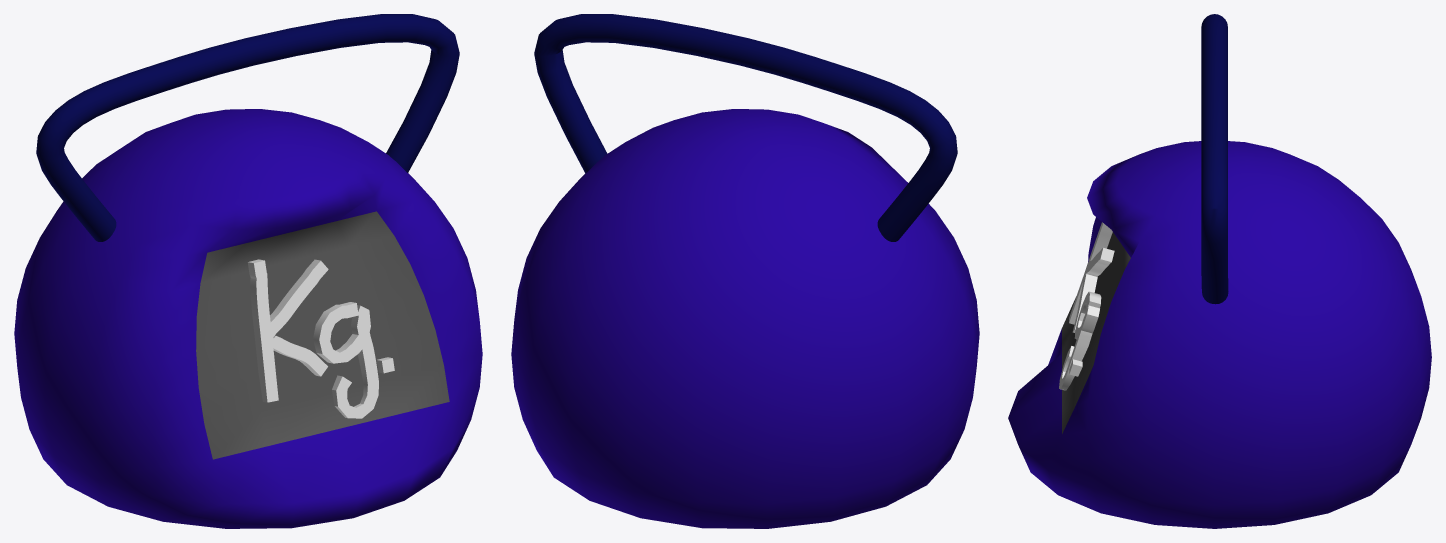
Rendered from Masa3.fbx.
3 views of the same model, side by side, from view 1: azimuth 30°, elevation 25°; view 2: azimuth 150°, elevation 25°; view 3: azimuth 270°, elevation 25° (orthographic). The views are drawn at different scales.
Visible parts, largest first — view 1: pasted__pasted__pSphere1, pasted__pasted__pCylinder1, pasted__pasted__pCube3, pasted__pasted__pCube1, pasted__pasted__pCube2; view 2: pasted__pasted__pSphere1, pasted__pasted__pCylinder1; view 3: pasted__pasted__pSphere1, pasted__pasted__pCylinder1, pasted__pasted__pCube3, pasted__pasted__pCube2, pasted__pasted__pCube1.
Part boxes in pixels (box(x1,y1,x2,y2)): pasted__pasted__pSphere1: box(14, 109, 482, 528); pasted__pasted__pCylinder1: box(36, 14, 459, 241); pasted__pasted__pCube3: box(313, 302, 378, 418); pasted__pasted__pCube1: box(247, 259, 278, 402); pasted__pasted__pCube2: box(264, 259, 328, 376); pasted__pasted__pSphere1: box(511, 109, 979, 528); pasted__pasted__pCylinder1: box(534, 14, 957, 241); pasted__pasted__pSphere1: box(1008, 141, 1431, 528); pasted__pasted__pCylinder1: box(1201, 14, 1228, 304); pasted__pasted__pCube3: box(1059, 291, 1101, 390); pasted__pasted__pCube2: box(1072, 248, 1114, 332); pasted__pasted__pCube1: box(1069, 222, 1112, 324).
Size of the model in its own units: 3.67 by 3.45 by 3.48.
